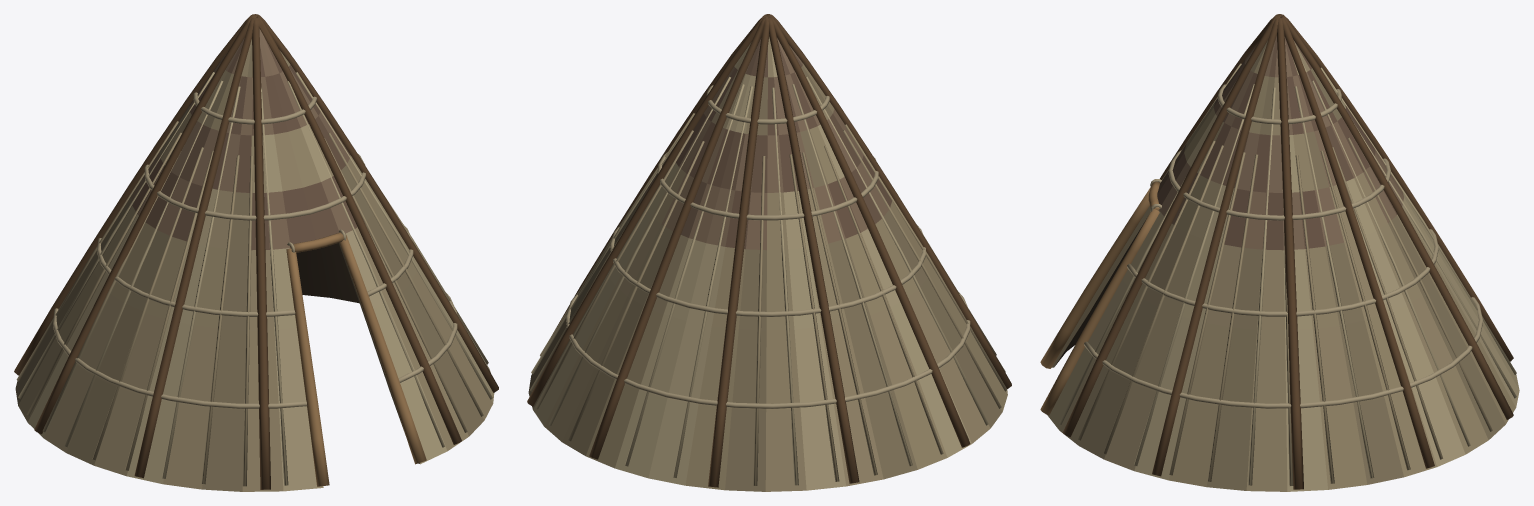
Rendered from conical_reed_hut_lod0.glb.
3 renders of one model, left to right at view 1: azimuth 30°, elevation 25°; view 2: azimuth 150°, elevation 25°; view 3: azimuth 270°, elevation 25°, orthographic.
Visible parts, largest first — view 1: conical_reed_hut_lod0; view 2: conical_reed_hut_lod0; view 3: conical_reed_hut_lod0.
Boxes of the visible parts, x1,y1,x2,y2 form: conical_reed_hut_lod0: [14, 14, 498, 491]; conical_reed_hut_lod0: [527, 14, 1011, 491]; conical_reed_hut_lod0: [1040, 14, 1519, 491].
Bounding box in the file's own units: 4.16 × 3.54 × 4.1.
